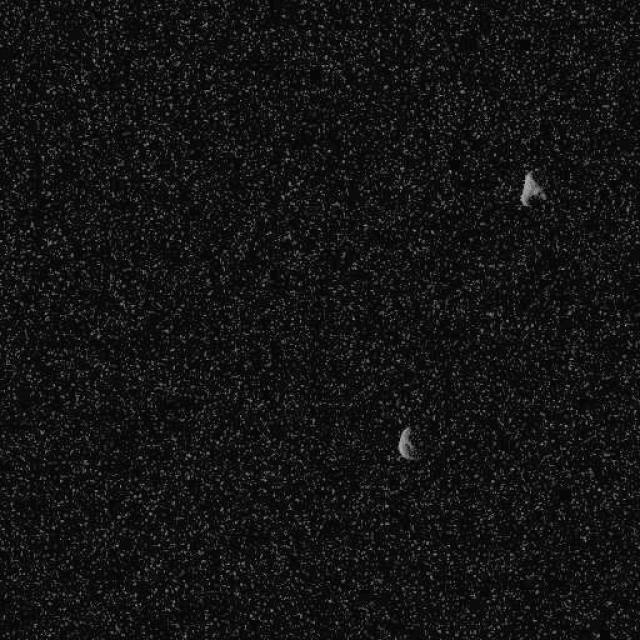D2: (518, 170, 548, 208), (396, 425, 419, 461)
